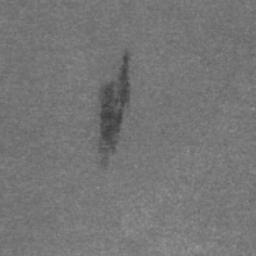Iron scale compression: (98, 50, 129, 170)
